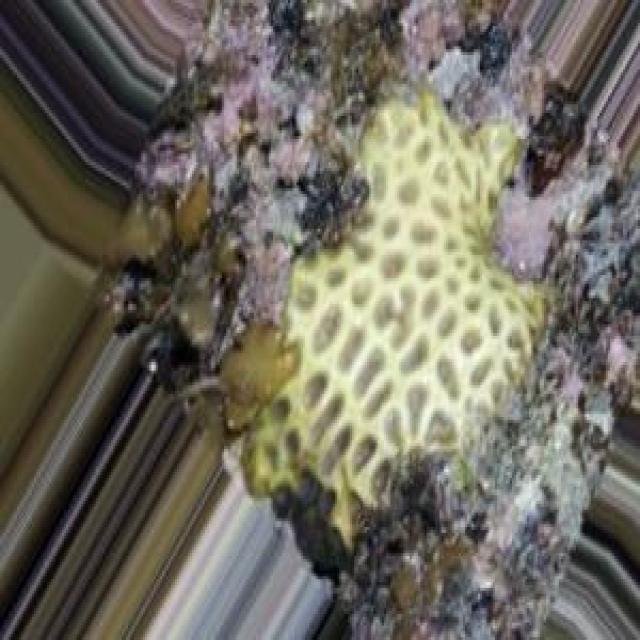Bleached: (244, 93, 542, 547)
